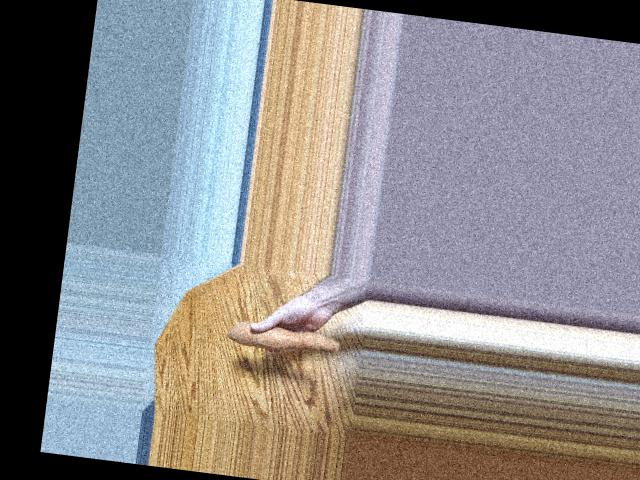sweet_potato: (231, 315, 342, 361)
